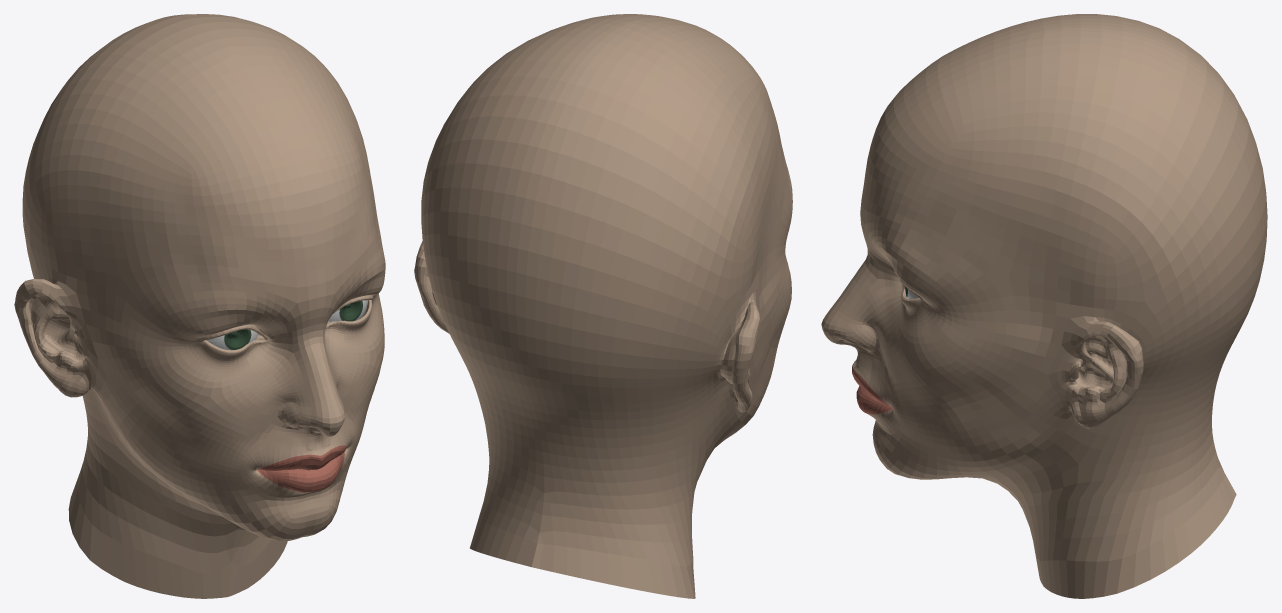
File: demoHead_neutral (1).fbx
3 views of the same model, side by side, from view 1: azimuth 30°, elevation 25°; view 2: azimuth 150°, elevation 25°; view 3: azimuth 270°, elevation 25° (orthographic). The views are drawn at different scales.
Visible parts, largest first — view 1: neutral_head; view 2: neutral_head; view 3: neutral_head.
Boxes of the visible parts, <box> form: neutral_head: <box>14,14,385,598</box>; neutral_head: <box>414,14,792,598</box>; neutral_head: <box>821,14,1267,598</box>.
Size of the model in its own units: 1.27 by 2.01 by 1.48.
